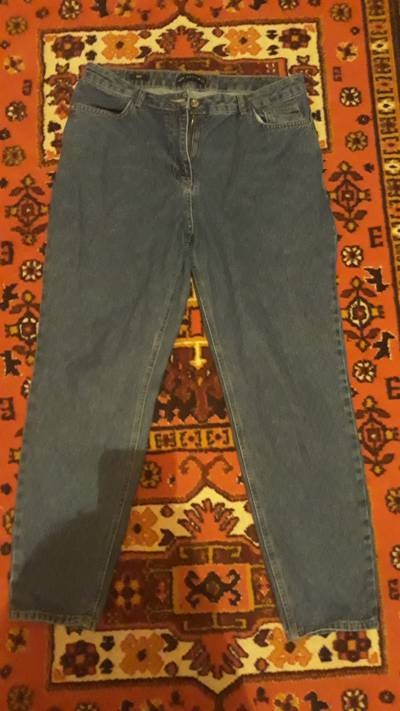Pants: (0, 57, 371, 664)
